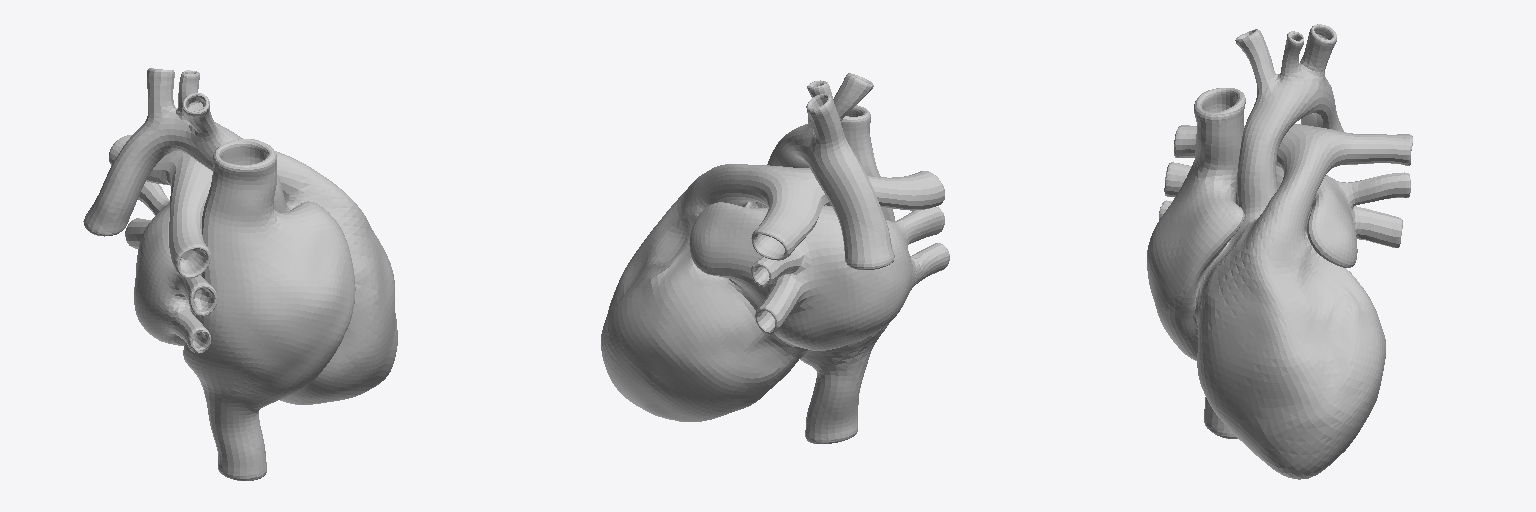
The picture shows the model from 3 angles: view 1: azimuth 30°, elevation 25°; view 2: azimuth 150°, elevation 25°; view 3: azimuth 270°, elevation 25°; orthographic projection.
Visible parts, largest first — view 1: HEART_PRO; view 2: HEART_PRO; view 3: HEART_PRO.
Boxes of the visible parts, box(x1,y1,x2,y2) form: HEART_PRO: box(83, 68, 397, 480); HEART_PRO: box(601, 73, 949, 443); HEART_PRO: box(1147, 24, 1412, 479).
Size of the model in its own units: 651 by 823 by 514.